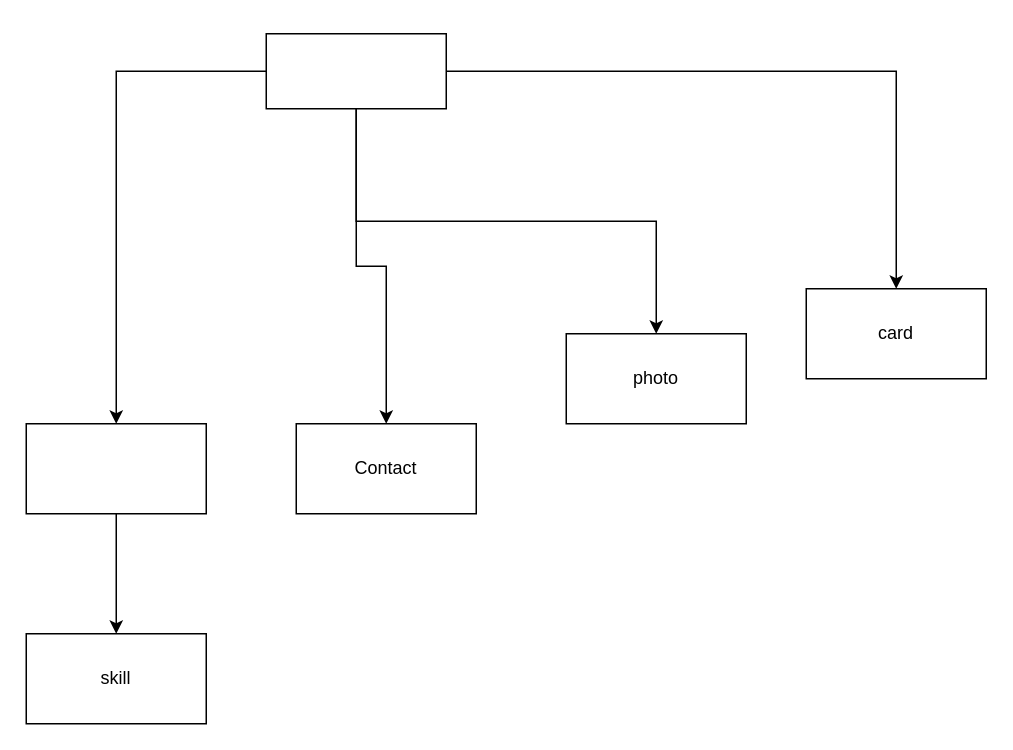
Some shapes in this 1013 by 750 pixel diagram are drawn without their labels. Each missing label, with the centre of its shape:
app: the point at 355,70
skill box: the point at 115,468
